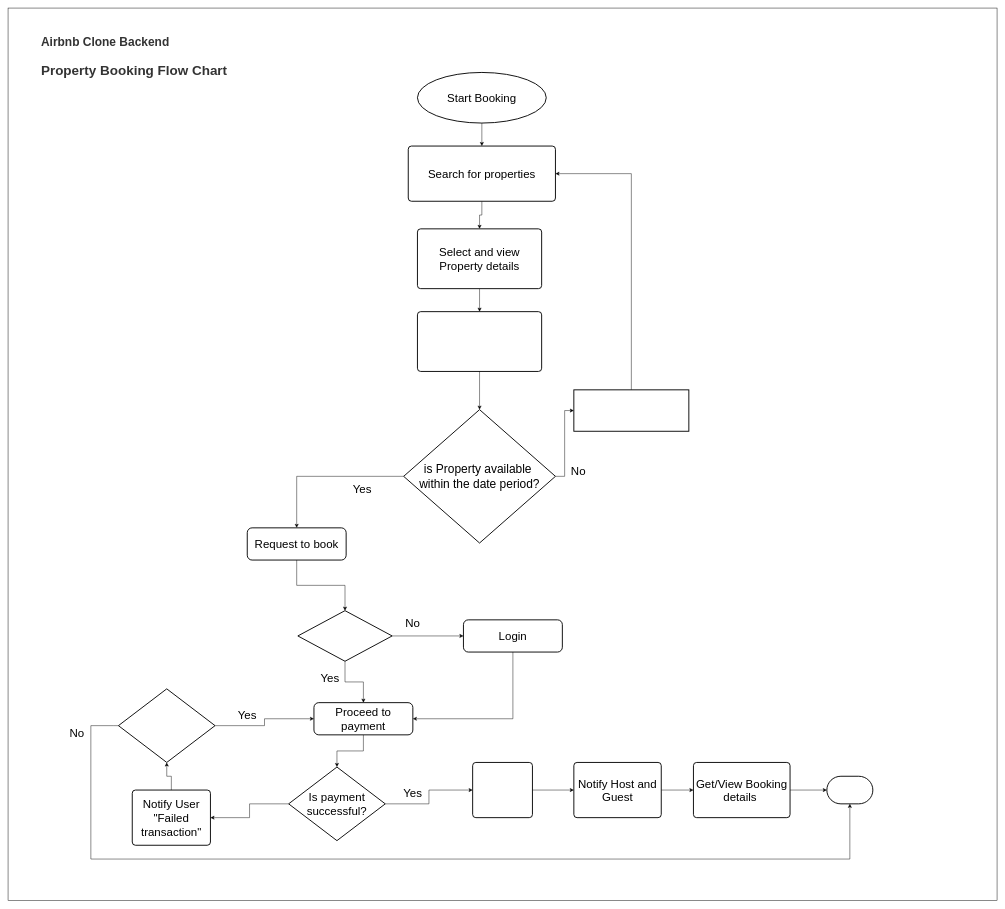
Some shapes in this 1005 by 909 pixel diagram are drawn without their labels. The centre of each missing label's shape, as x and y in pixels:
confirm booking: pixel 502 790
End: pixel 849 790
is logged in: pixel 344 635
Notify user "Not available ": pixel 631 410
Retry?: pixel 166 725
Select check-in and check-out date: pixel 479 341
